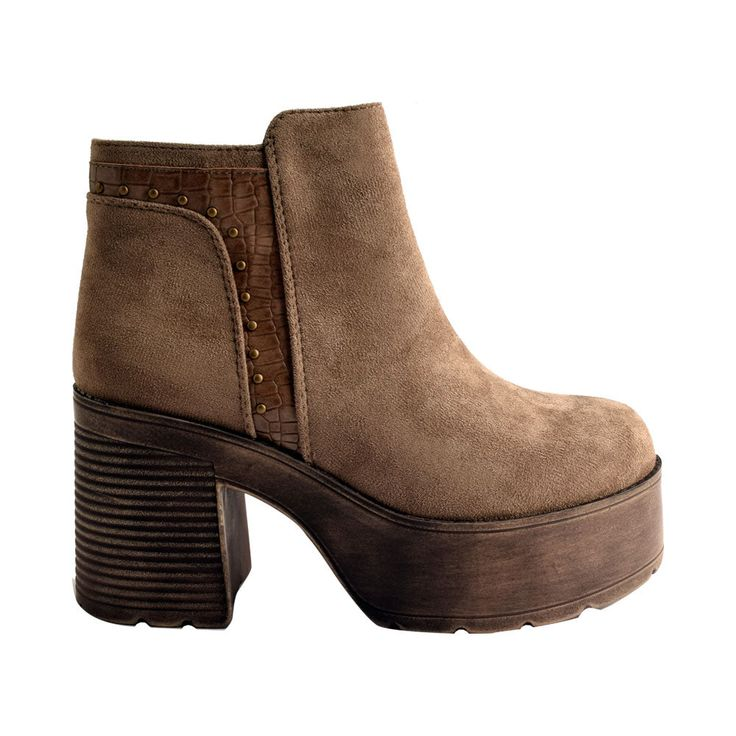gamuza: (72, 101, 658, 521)
